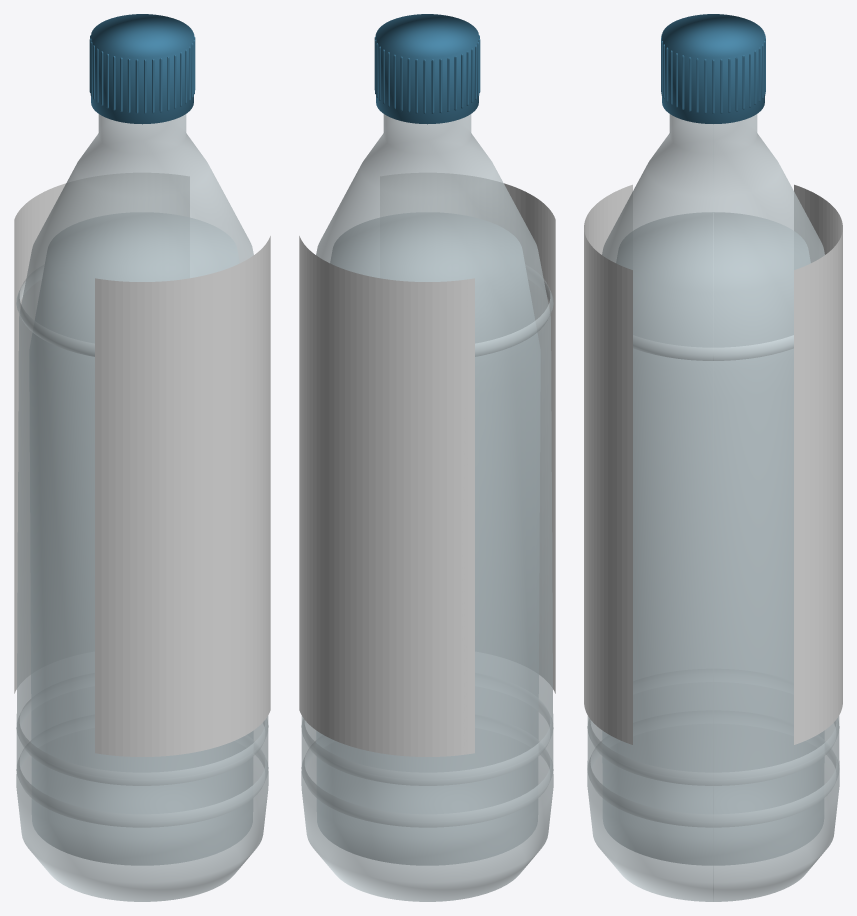
The model's file is water-bottle.glb.
3 views of the same model, side by side, from view 1: azimuth 30°, elevation 25°; view 2: azimuth 150°, elevation 25°; view 3: azimuth 270°, elevation 25° (orthographic).
Parts seen in each view (by area): view 1: Moulded container, LabelFront, Water fill, LabelBack, Threaded closure; view 2: Moulded container, LabelBack, Water fill, LabelFront, Threaded closure; view 3: Moulded container, Water fill, LabelFront, LabelBack, Threaded closure.
Part boxes in pixels (x1,y1,x2,y2): Moulded container: (16, 114, 268, 901); LabelFront: (95, 236, 270, 756); Water fill: (29, 212, 253, 865); LabelBack: (14, 173, 189, 693); Threaded closure: (89, 14, 195, 124); Moulded container: (301, 114, 553, 901); LabelBack: (299, 236, 474, 756); Water fill: (316, 212, 540, 865); LabelFront: (380, 173, 555, 693); Threaded closure: (374, 14, 480, 124); Moulded container: (587, 114, 839, 901); Water fill: (602, 212, 824, 865); LabelFront: (584, 184, 632, 744); LabelBack: (794, 184, 842, 744); Threaded closure: (661, 14, 765, 123).
Size of the model in its own units: 0.2744 by 0.99 by 0.2817.
